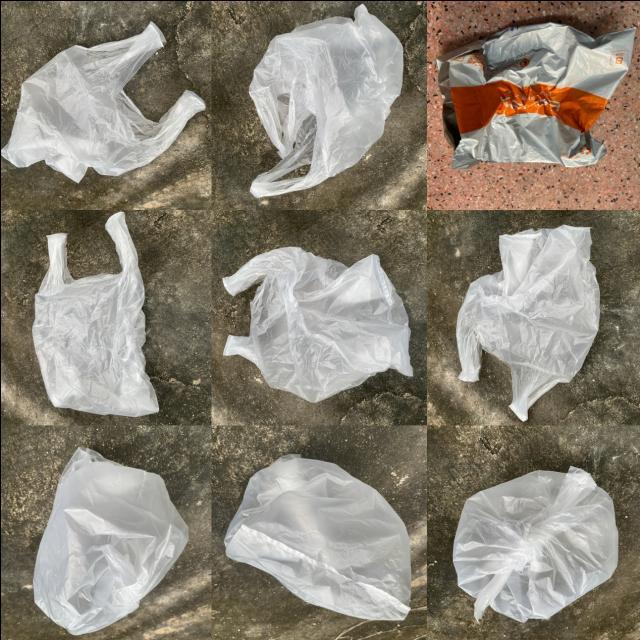plastik: (0, 22, 203, 182), (224, 453, 410, 620), (249, 4, 402, 197), (222, 246, 412, 401), (33, 446, 187, 634), (436, 22, 633, 168), (456, 225, 599, 420), (452, 466, 618, 621), (32, 211, 158, 415)
